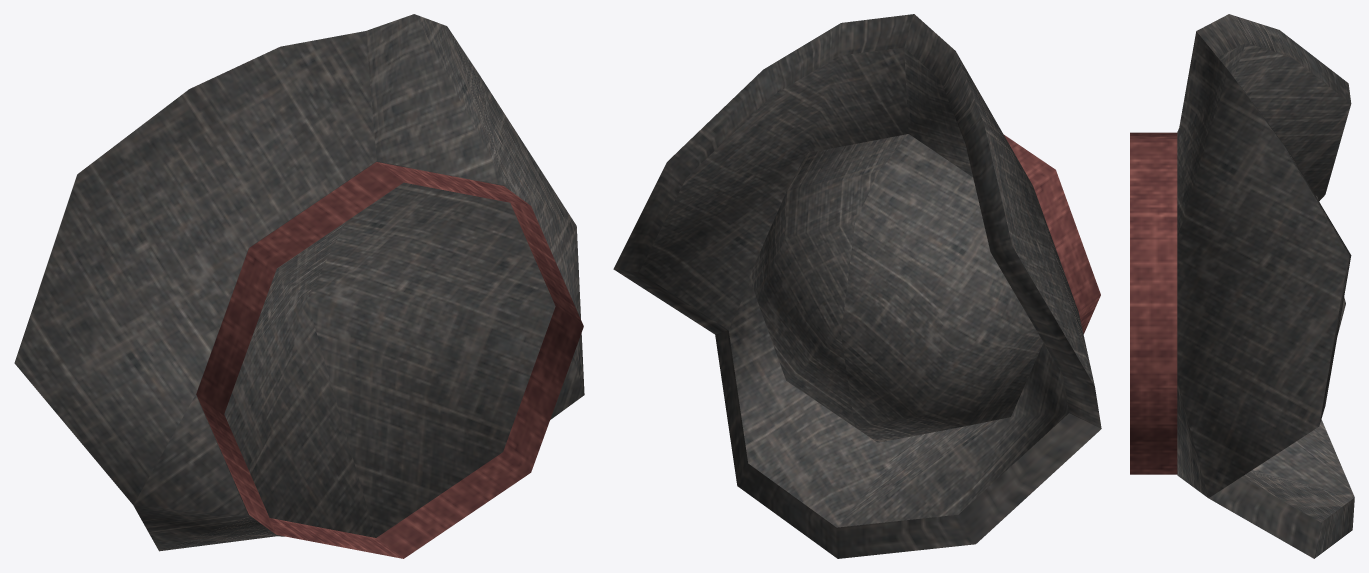
The model's file is Pirate_Hat_B.fbx.
3 views of the same model, side by side, from view 1: azimuth 30°, elevation 25°; view 2: azimuth 150°, elevation 25°; view 3: azimuth 270°, elevation 25° (orthographic). The views are drawn at different scales.
Visible parts, largest first — view 1: Pirate_Hat_B; view 2: Pirate_Hat_B; view 3: Pirate_Hat_B.
Part boxes in pixels (x1,y1,x2,y2): Pirate_Hat_B: [14, 14, 584, 558]; Pirate_Hat_B: [613, 14, 1101, 558]; Pirate_Hat_B: [1130, 14, 1354, 558].
Bounding box in the file's own units: 0.8646 × 0.8387 × 0.3422.
